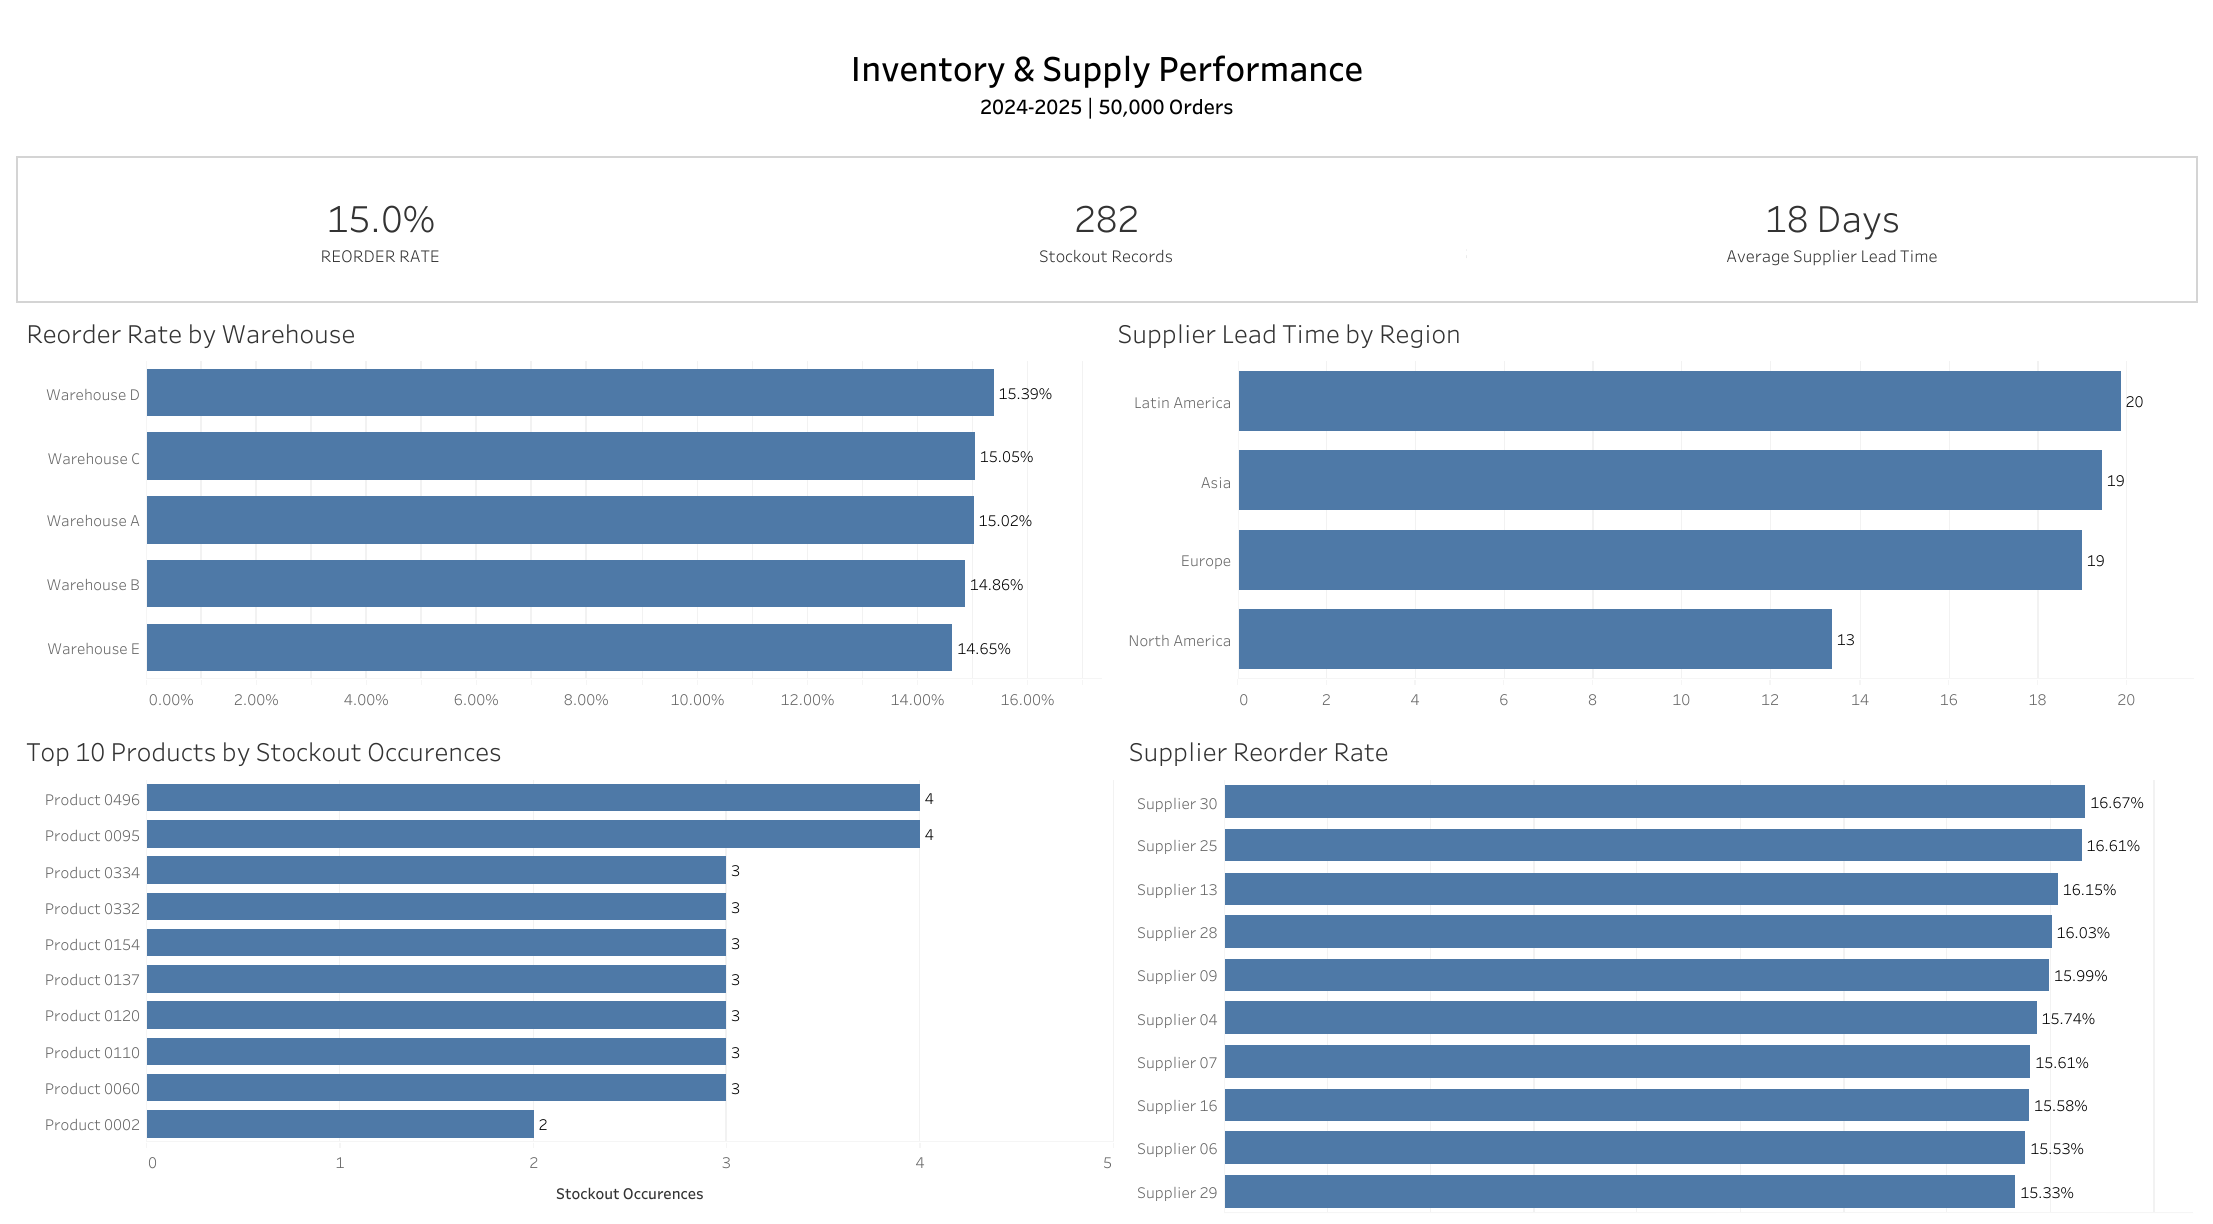

This screenshot's page, from the dashboard's own definition file:
{"tool":"tableau","page":{"name":"Inventory & Supply Performance","canvas":[1000,1000],"units":"permille","ordinal":1},"visuals":[{"type":"text","box":[7.4,5.9,985.1,87.7]},{"type":"worksheet","title":"D2 - KPI Reorder Rate","mark":"Automatic","box":[8.6,94.3,327.9,84.7]},{"type":"worksheet","title":"D2 - KPI Stockout Records","mark":"Automatic","box":[336.5,94.3,327.9,84.7]},{"type":"worksheet","title":"D2 - KPI Avg Supplier Lead Time","mark":"Automatic","box":[664.5,94.3,327,84.7]},{"type":"worksheet","title":"D2 - Reorder Rate by Warehouse","mark":"Bar","rows":["warehouse_name"],"cols":["Calculation_0754848549265418"],"box":[7.4,179.8,483.1,246.9]},{"type":"worksheet","title":"D2 - Supplier Lead Time by Region","mark":"Bar","rows":["supplier_region"],"cols":["lead_time_days"],"box":[490.5,179.8,502.1,246.9]},{"type":"worksheet","title":"D2- Top Stockout Products","mark":"Automatic","rows":["product_name"],"cols":["inventory_id"],"box":[7.4,426.7,502.1,342.7]},{"type":"worksheet","title":"D2 - Supplier Reorder Rate","mark":"Bar","rows":["supplier_name"],"cols":["reorder_rate"],"box":[509.5,426.7,483.1,342.7]}]}

Visuals, with their boxes on the dashboard's canvas, which has no fixed pixel size, in thousandths of its width and height (x1, y1, x2, y2). These are canvas units, not pixel positions in the 2213x1224 screenshot, which may show the page scaled, cropped or inside an application window:
text: <region>7, 6, 992, 94</region>
"D2 - KPI Reorder Rate" worksheet: <region>9, 94, 336, 179</region>
"D2 - KPI Stockout Records" worksheet: <region>336, 94, 664, 179</region>
"D2 - KPI Avg Supplier Lead Time" worksheet: <region>664, 94, 992, 179</region>
"D2 - Reorder Rate by Warehouse" worksheet (Bar marks): <region>7, 180, 490, 427</region>
"D2 - Supplier Lead Time by Region" worksheet (Bar marks): <region>490, 180, 993, 427</region>
"D2- Top Stockout Products" worksheet: <region>7, 427, 510, 769</region>
"D2 - Supplier Reorder Rate" worksheet (Bar marks): <region>510, 427, 993, 769</region>
